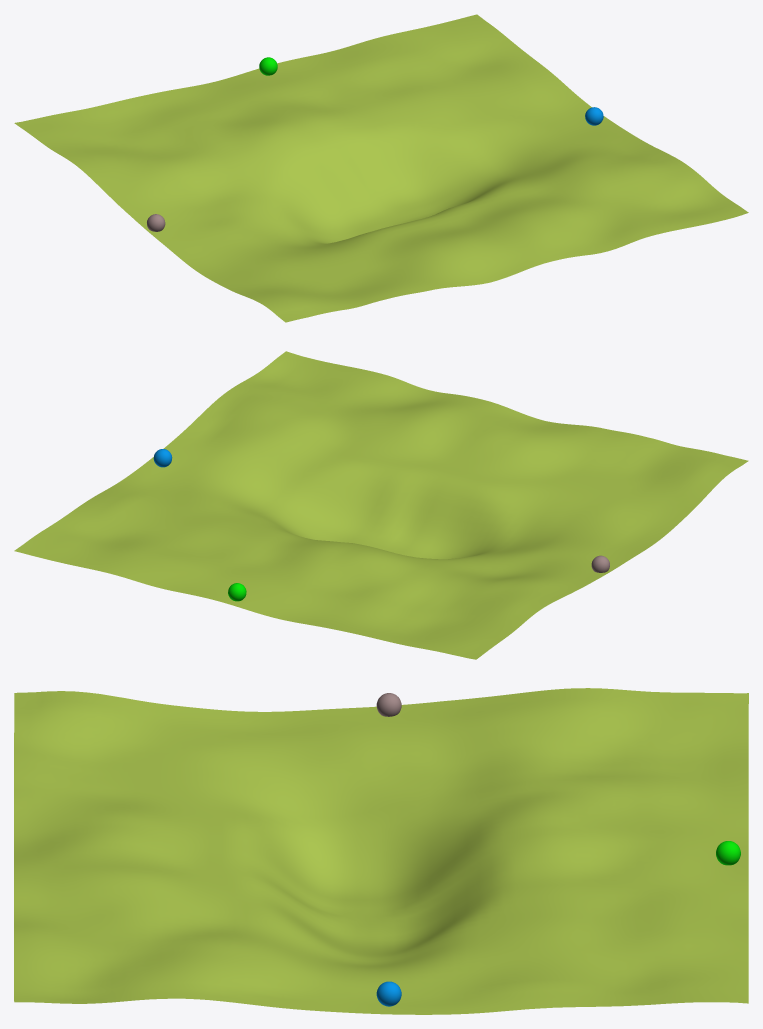
The model's file is marqueurs_bosse_neg3.fbx.
3 views of the same model, one above another, from view 1: azimuth 30°, elevation 25°; view 2: azimuth 150°, elevation 25°; view 3: azimuth 270°, elevation 25° (orthographic). The views are drawn at different scales.
Parts seen in each view (by area): view 1: bosse_neg3; view 2: bosse_neg3; view 3: bosse_neg3.
Boxes of the visible parts, x1,y1,x2,y2 form: bosse_neg3: [14, 14, 748, 322]; bosse_neg3: [14, 351, 748, 659]; bosse_neg3: [14, 688, 748, 1014].
Size of the model in its own units: 708 by 95.16 by 721.
